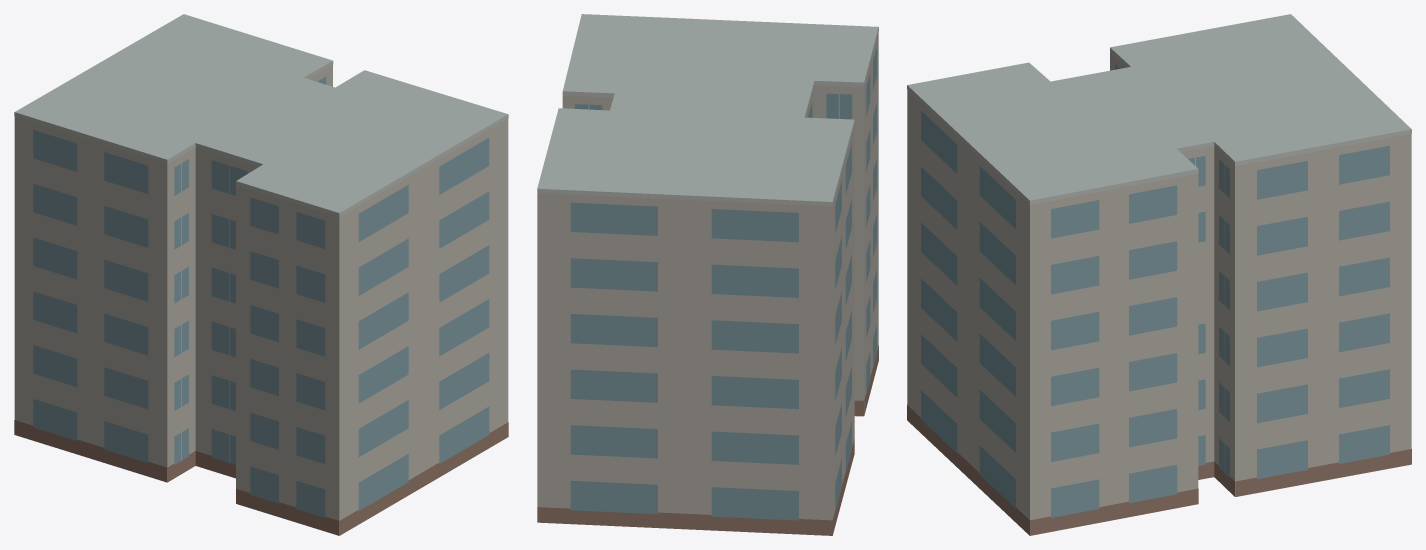
The model's file is survey-upis-32949929.glb.
3 views of the same model, side by side, from view 1: azimuth 30°, elevation 25°; view 2: azimuth 150°, elevation 25°; view 3: azimuth 270°, elevation 25° (orthographic). The views are drawn at different scales.
Parts seen in each view (by area): view 1: survey-upis-32949929.tmp; view 2: survey-upis-32949929.tmp; view 3: survey-upis-32949929.tmp.
Part boxes in pixels (x1,y1,x2,y2): survey-upis-32949929.tmp: [14, 14, 508, 535]; survey-upis-32949929.tmp: [537, 14, 878, 535]; survey-upis-32949929.tmp: [907, 14, 1411, 535].
Size of the model in its own units: 22.45 by 18.8 by 25.66.
